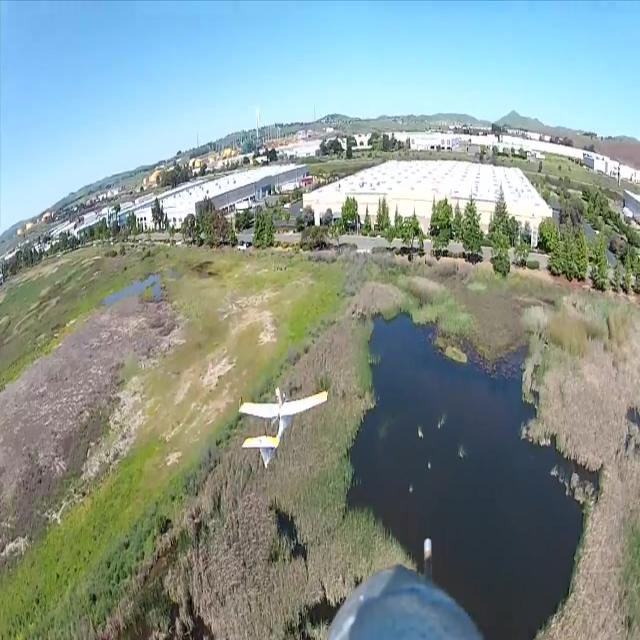iha: (269, 417, 297, 438)
